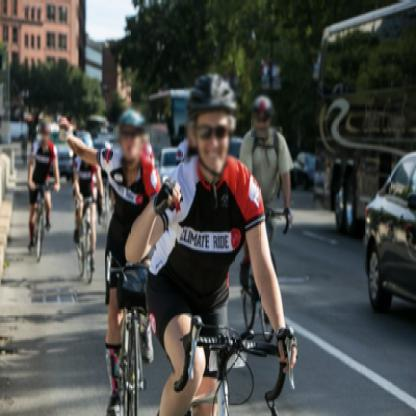Helmet: (181, 71, 241, 181), (114, 107, 156, 170), (252, 90, 278, 144)
